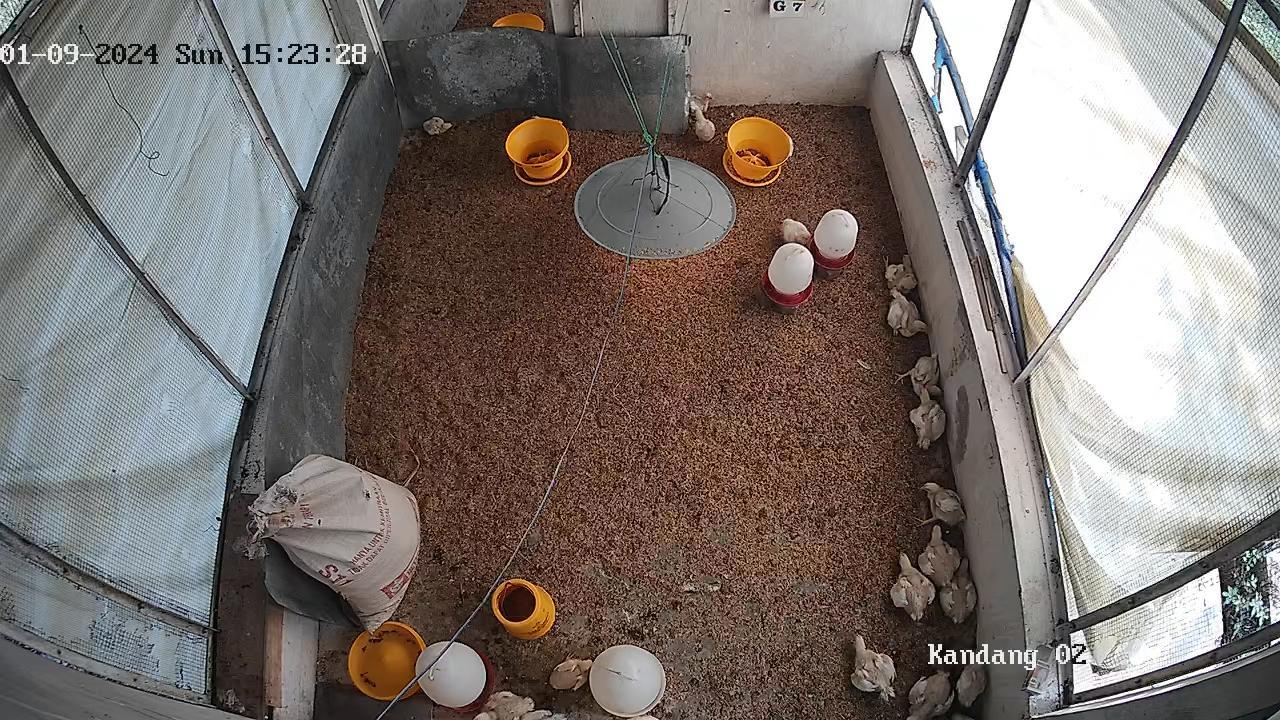chicken: (889, 550, 936, 619), (851, 635, 895, 702), (917, 527, 961, 587), (899, 347, 946, 401), (911, 387, 949, 449), (941, 559, 977, 624), (910, 667, 953, 720), (920, 482, 968, 526), (878, 287, 923, 332), (469, 692, 535, 720), (953, 655, 986, 707), (549, 656, 594, 691), (880, 255, 917, 290), (781, 219, 815, 249), (675, 93, 711, 121), (693, 106, 717, 143), (424, 116, 451, 136), (521, 709, 569, 720)
